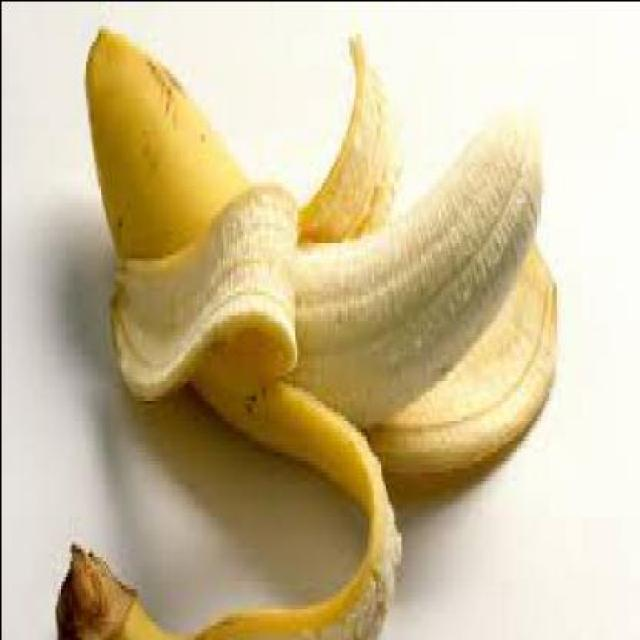BIODEGRADABLE: (52, 16, 554, 636)
